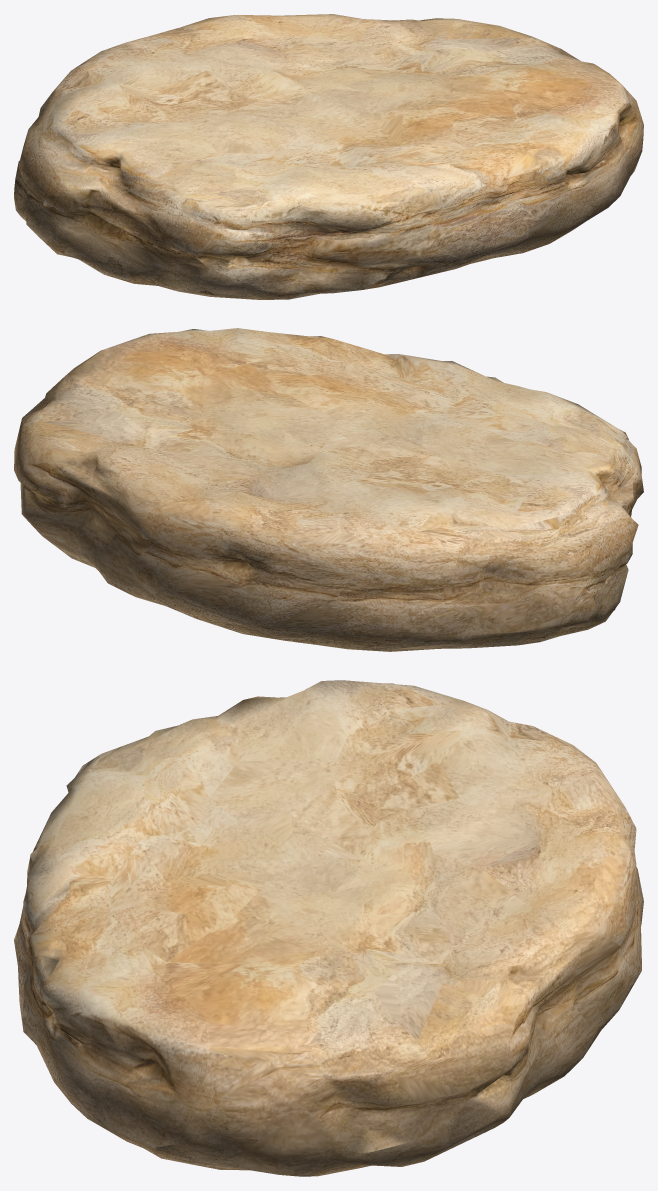
File: rock-flat-v1.glb
The picture shows the model from 3 angles, top to bottom: view 1: azimuth 30°, elevation 25°; view 2: azimuth 150°, elevation 25°; view 3: azimuth 270°, elevation 25°; orthographic projection. The views are drawn at different scales.
Visible parts, largest first — view 1: tripo_node_a714cc5c-0b86-4978-abdf-080ecef775ea; view 2: tripo_node_a714cc5c-0b86-4978-abdf-080ecef775ea; view 3: tripo_node_a714cc5c-0b86-4978-abdf-080ecef775ea.
Part boxes in pixels (<box>): tripo_node_a714cc5c-0b86-4978-abdf-080ecef775ea: <box>14,14,643,299</box>; tripo_node_a714cc5c-0b86-4978-abdf-080ecef775ea: <box>14,328,643,651</box>; tripo_node_a714cc5c-0b86-4978-abdf-080ecef775ea: <box>14,680,643,1176</box>.
Size of the model in its own units: 0.7002 by 0.1617 by 0.4994.
1 material, 1 textured.
